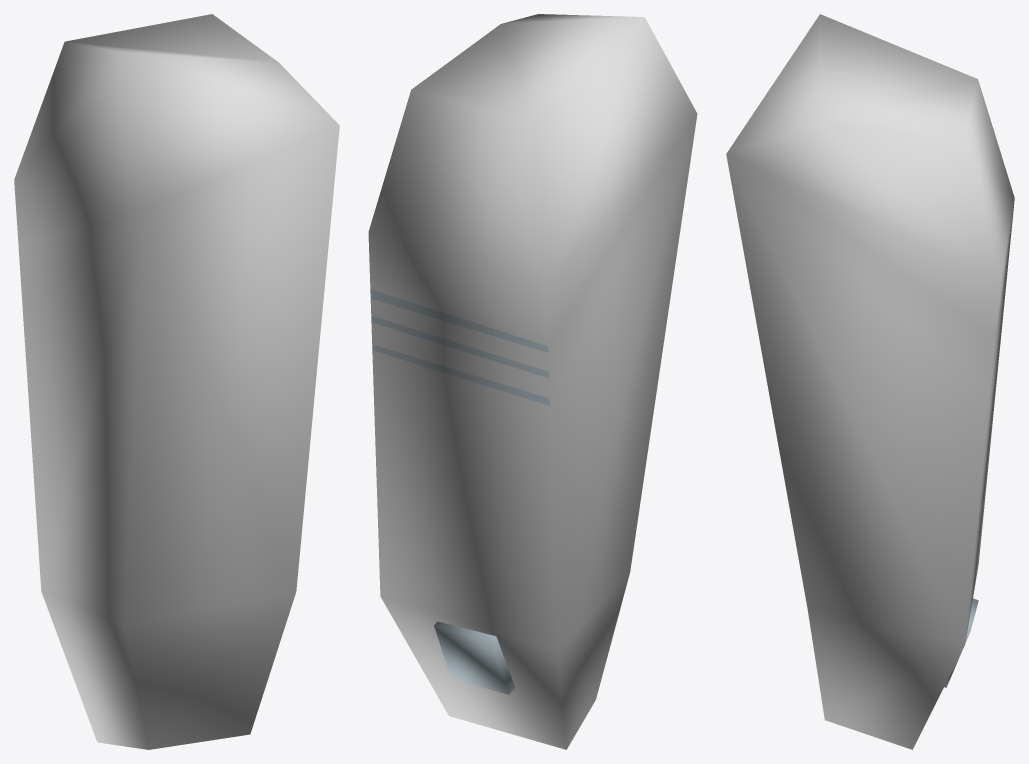
File: thigh_right.gltf
3 renders of one model, left to right at view 1: azimuth 30°, elevation 25°; view 2: azimuth 150°, elevation 25°; view 3: azimuth 270°, elevation 25°, orthographic. The views are drawn at different scales.
Visible parts, largest first — view 1: group361686190; view 2: group361686190; view 3: group361686190.
Boxes of the visible parts, x1,y1,x2,y2 form: group361686190: [14, 14, 339, 749]; group361686190: [368, 14, 697, 749]; group361686190: [726, 14, 1014, 749].
Size of the model in its own units: 0.0641 by 0.2092 by 0.0818.
